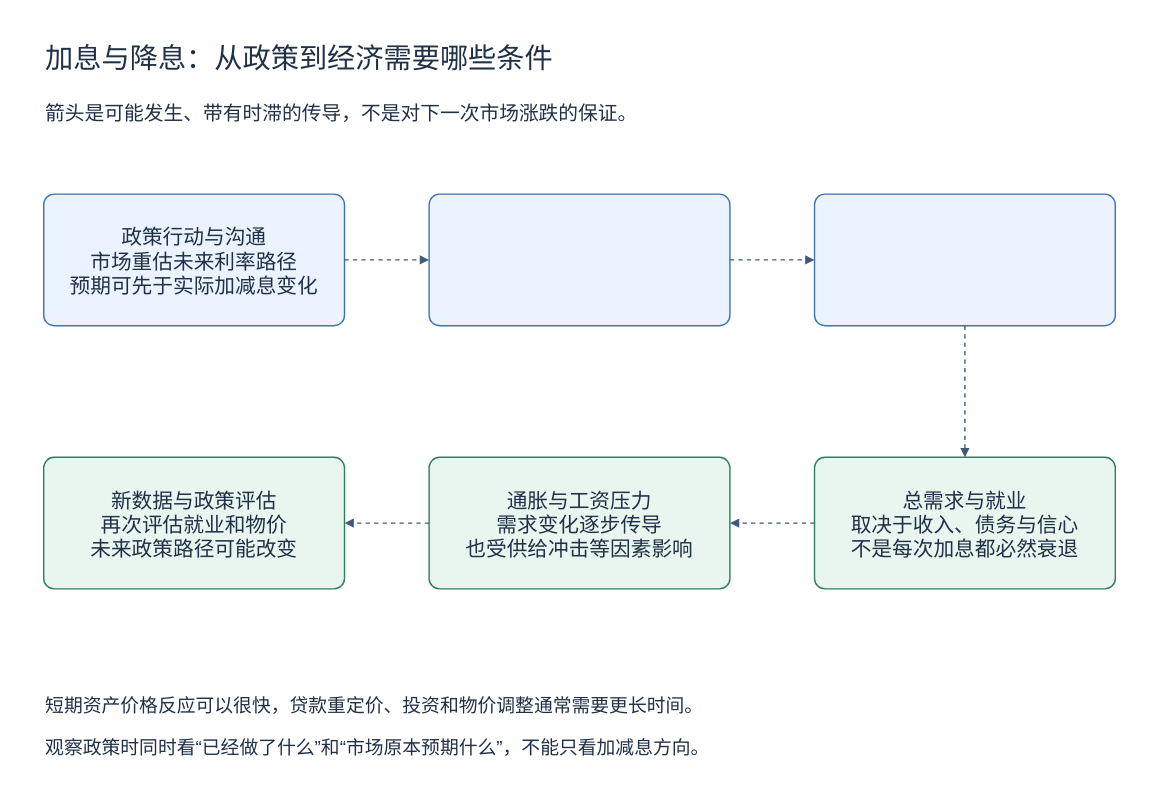
The diagram is 1159 pixels wide and 802 high, and some of its shapes have lost their labels. The shapes that lost their labels are listed below. From the top down, each one's centre as x and y in pixels, then its label:
the point at 579,259: 金融条件变化 市场利率、信用、汇率与估值 变化也受风险溢价影响
the point at 964,259: 借款与支出选择 企业投资、住房与耐用品 并非所有贷款立即重定价
